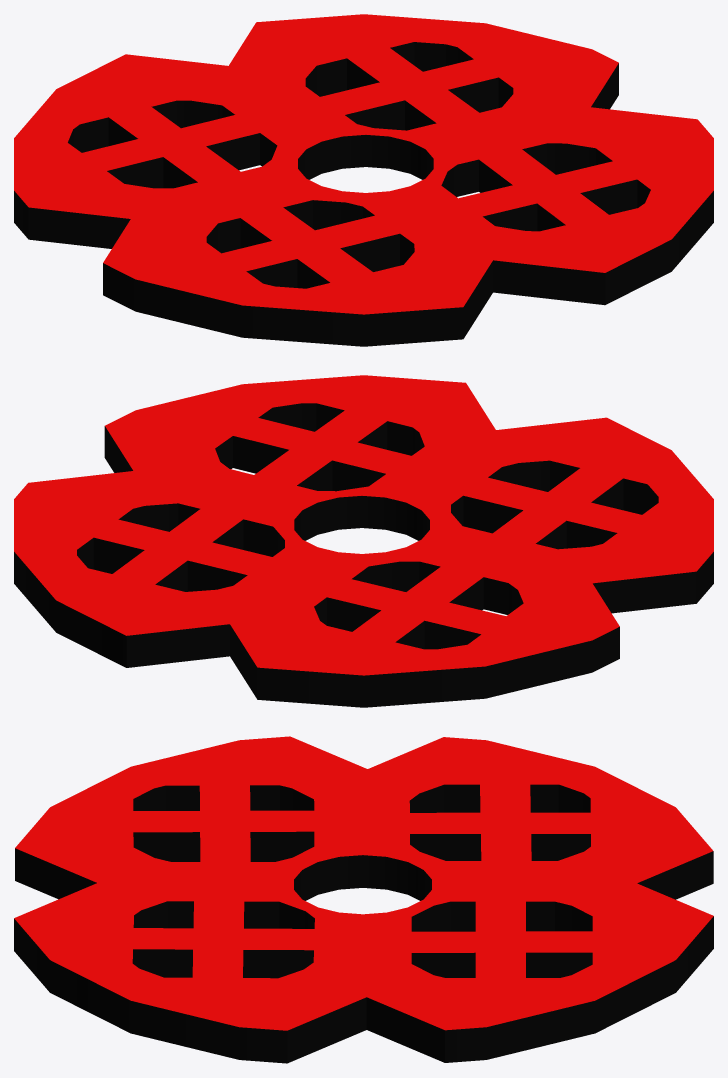
The model's file is figure2.FBX.
3 renders of one model, top to bottom at view 1: azimuth 30°, elevation 25°; view 2: azimuth 150°, elevation 25°; view 3: azimuth 270°, elevation 25°, orthographic.
Parts seen in each view (by area): view 1: Cylinder001; view 2: Cylinder001; view 3: Cylinder001.
Boxes of the visible parts, x1,y1,x2,y2 form: Cylinder001: [14, 14, 713, 346]; Cylinder001: [14, 375, 713, 707]; Cylinder001: [14, 736, 713, 1063].
Bounding box in the file's own units: 1.93 × 0.1 × 1.94.
